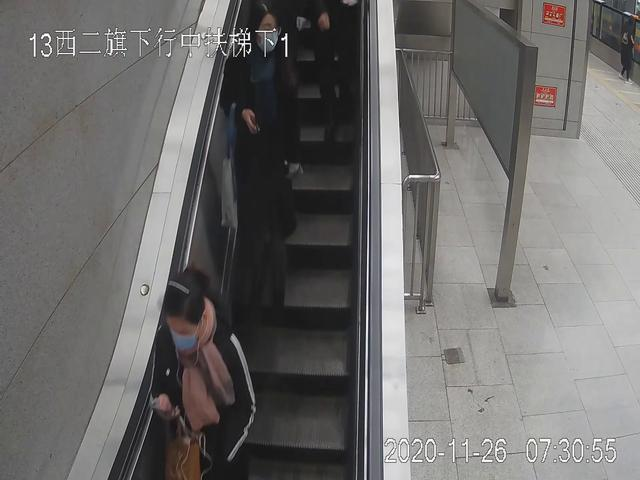person: (222, 4, 303, 310), (151, 265, 259, 480), (619, 17, 640, 86)
